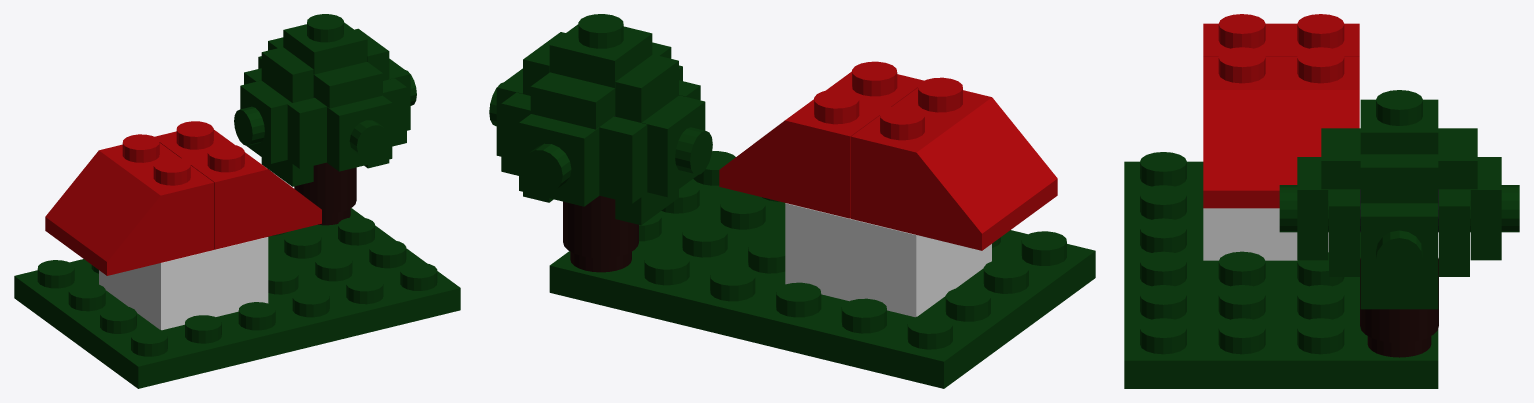
File: sample.model.dae
3 renders of one model, left to right at view 1: azimuth 30°, elevation 25°; view 2: azimuth 150°, elevation 25°; view 3: azimuth 270°, elevation 25°, orthographic. The views are drawn at different scales.
Visible parts, largest first — view 1: Part_3032.1, Part_3039.15, Part_3003.8, Part_3039.16, Part_3024.12, Part_3794.9, Part_3024.10, Part_3024.14, Part_3794.6, Part_3794.4, Part_3062.2, Part_3794.5 (+1 smaller); view 2: Part_3032.1, Part_3039.15, Part_3003.8, Part_3039.16, Part_3024.13, Part_3794.7, Part_3024.10, Part_3024.14, Part_3794.6, Part_3062.2, Part_3794.4, Part_3794.5 (+1 smaller); view 3: Part_3032.1, Part_3039.16, Part_3024.11, Part_3794.5, Part_3039.15, Part_3794.4, Part_3024.10, Part_3003.8, Part_3024.13, Part_3024.12, Part_3062.2, Part_3794.7 (+1 smaller).
Boxes of the visible parts, x1,y1,x2,y2 form: Part_3032.1: (14,208,460,388); Part_3039.15: (45,134,214,275); Part_3003.8: (99,237,268,330); Part_3039.16: (154,121,321,249); Part_3024.12: (327,95,392,171); Part_3794.9: (287,78,406,168); Part_3024.10: (283,14,367,74); Part_3024.14: (234,80,291,163); Part_3794.6: (261,47,313,186); Part_3794.4: (268,37,382,108); Part_3062.2: (294,162,356,225); Part_3794.5: (354,28,389,168); Part_3032.1: (549,151,1095,388); Part_3039.15: (851,77,1057,250); Part_3003.8: (785,203,991,317); Part_3039.16: (719,61,923,218); Part_3024.13: (519,114,599,206); Part_3794.7: (501,92,647,203); Part_3024.10: (549,14,652,87); Part_3024.14: (642,95,712,197); Part_3794.6: (615,54,678,225); Part_3062.2: (563,195,638,272); Part_3794.4: (530,42,671,129); Part_3794.5: (523,32,565,202); Part_3032.1: (1124,152,1438,388); Part_3039.16: (1203,47,1359,208); Part_3024.11: (1360,203,1438,286); Part_3794.5: (1360,154,1438,309); Part_3039.15: (1203,14,1359,56); Part_3794.4: (1321,128,1477,189); Part_3024.10: (1360,90,1438,154); Part_3003.8: (1203,208,1328,260); Part_3024.13: (1470,157,1519,260); Part_3024.12: (1279,157,1328,260); Part_3062.2: (1360,258,1438,357); Part_3794.7: (1439,189,1470,276).
Bounding box in the file's own units: 56.16 × 30.58 × 40.16.
